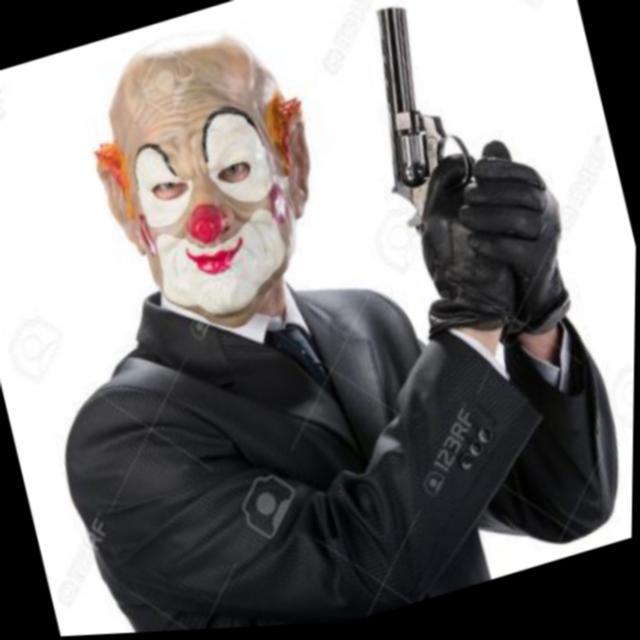weapon: (329, 0, 559, 299)
